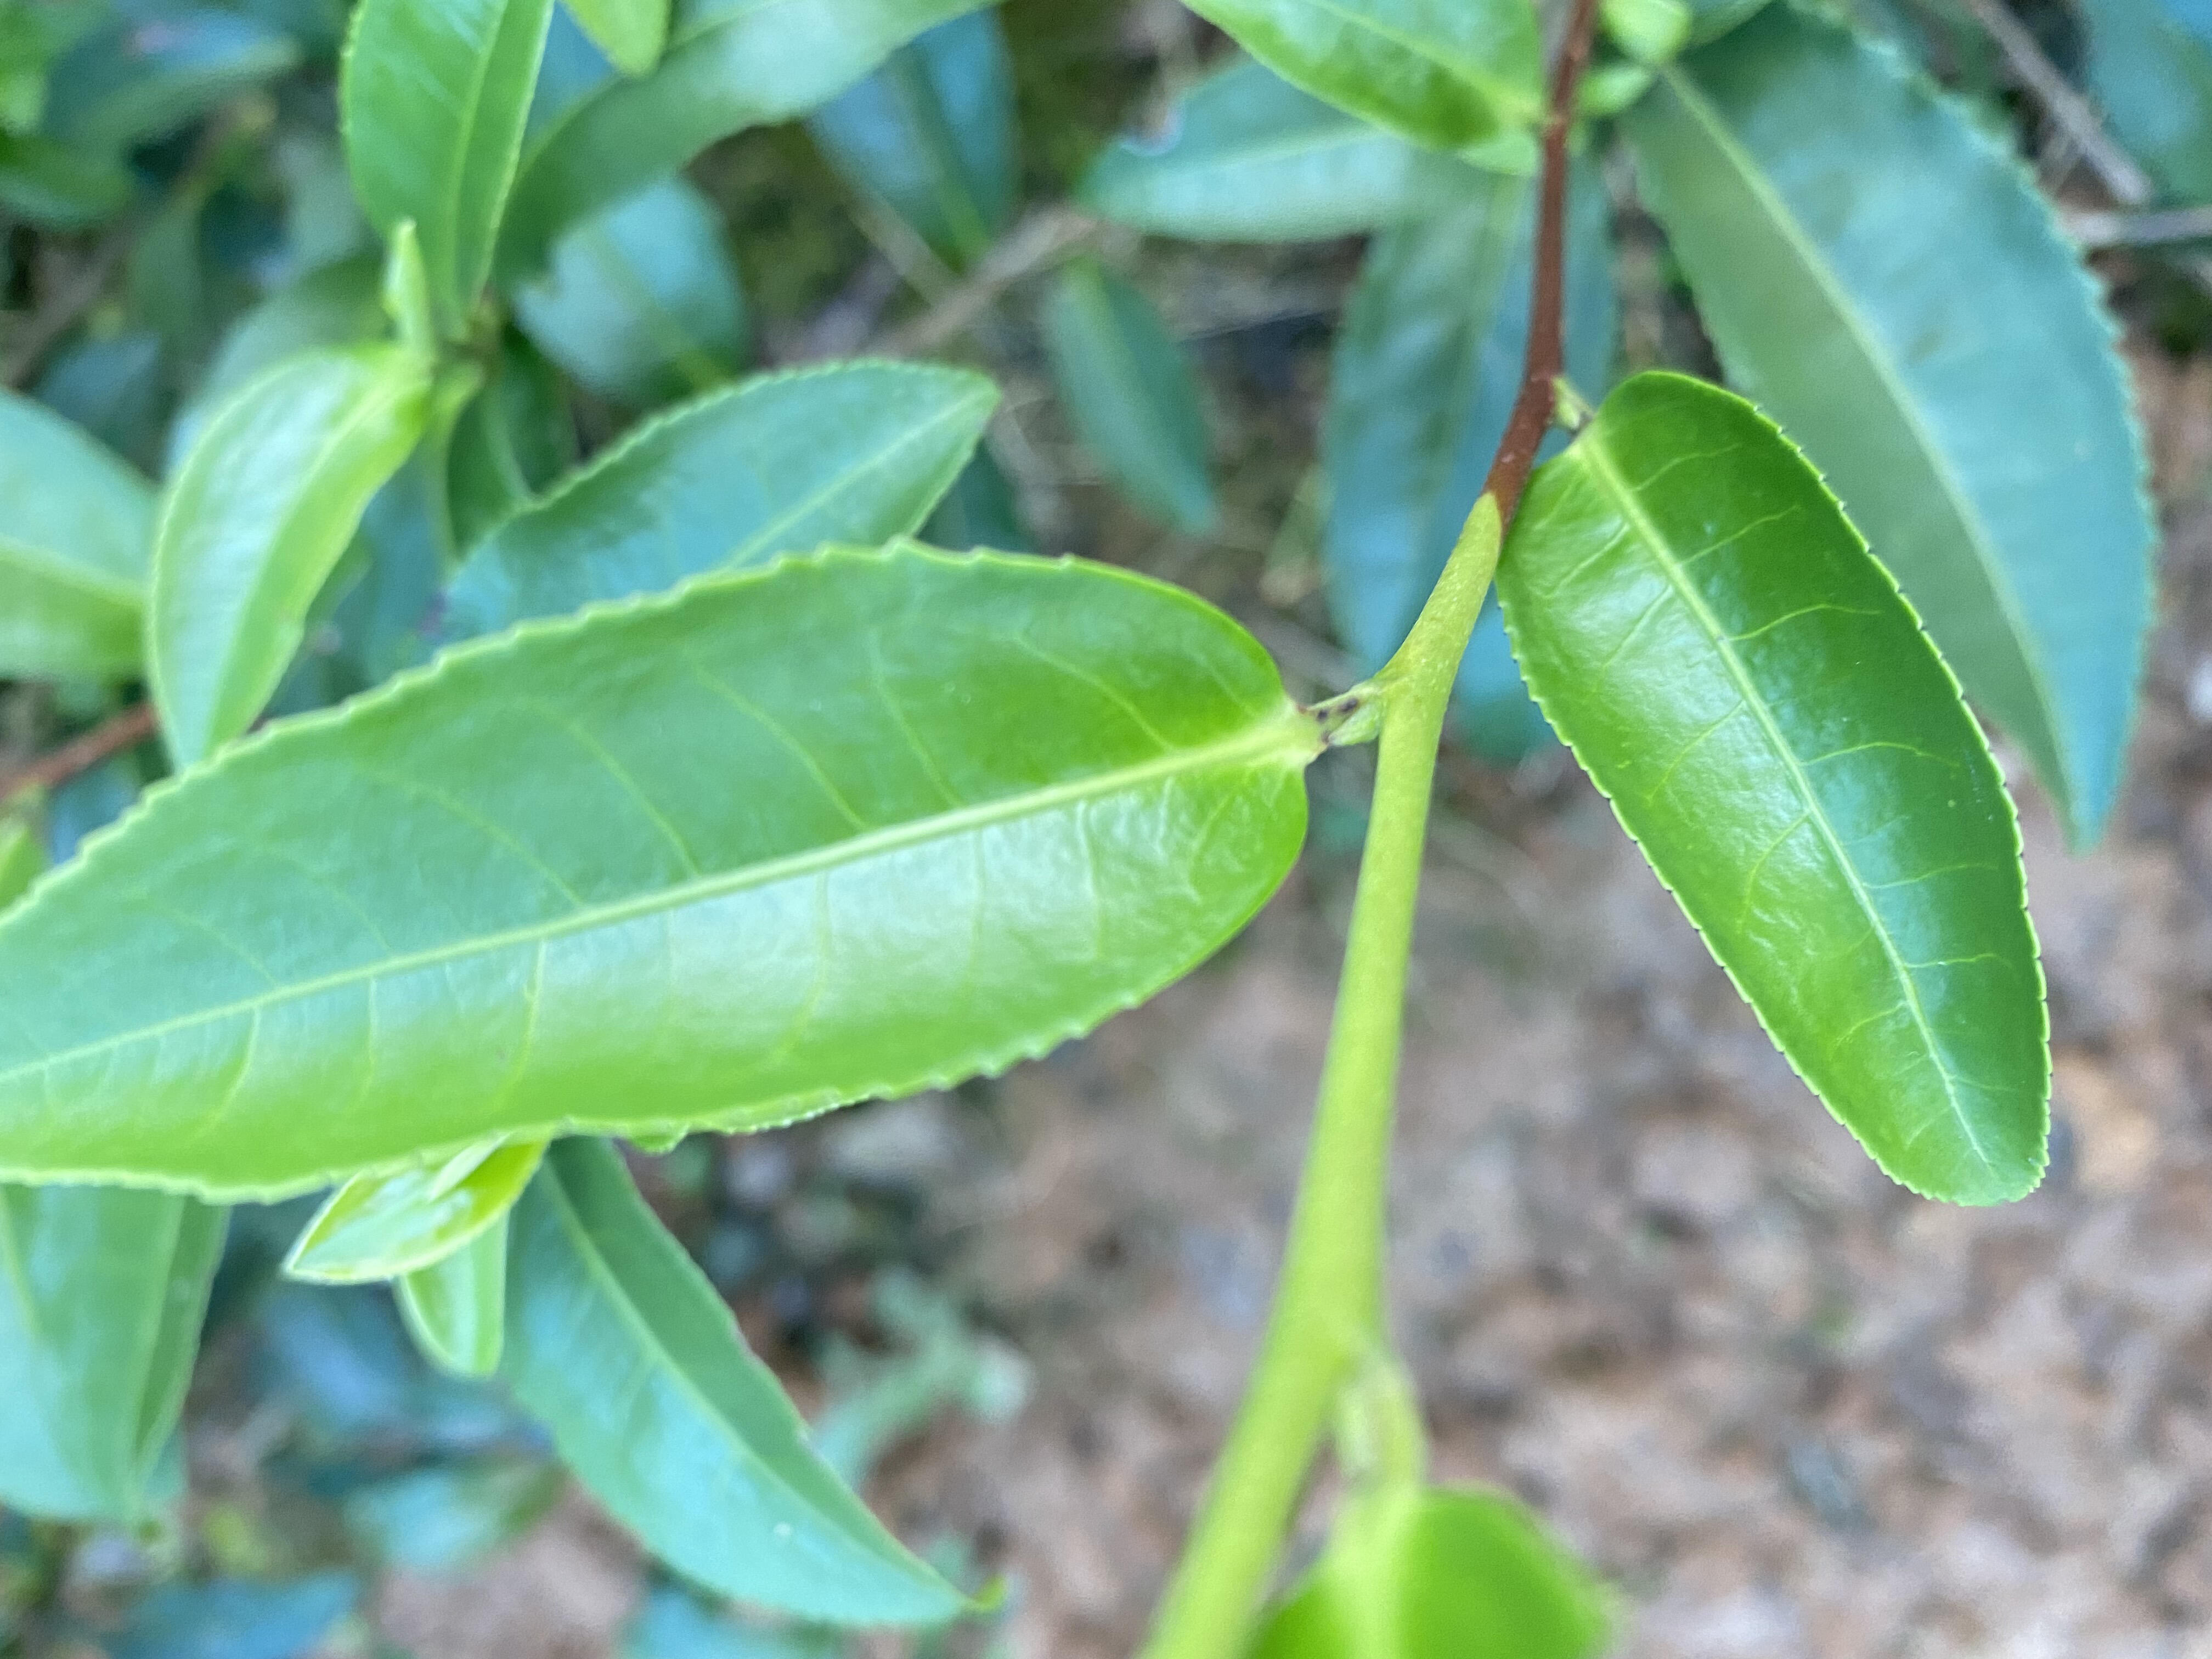healthy: (3, 535, 1313, 1204), (1493, 368, 2052, 1209)
